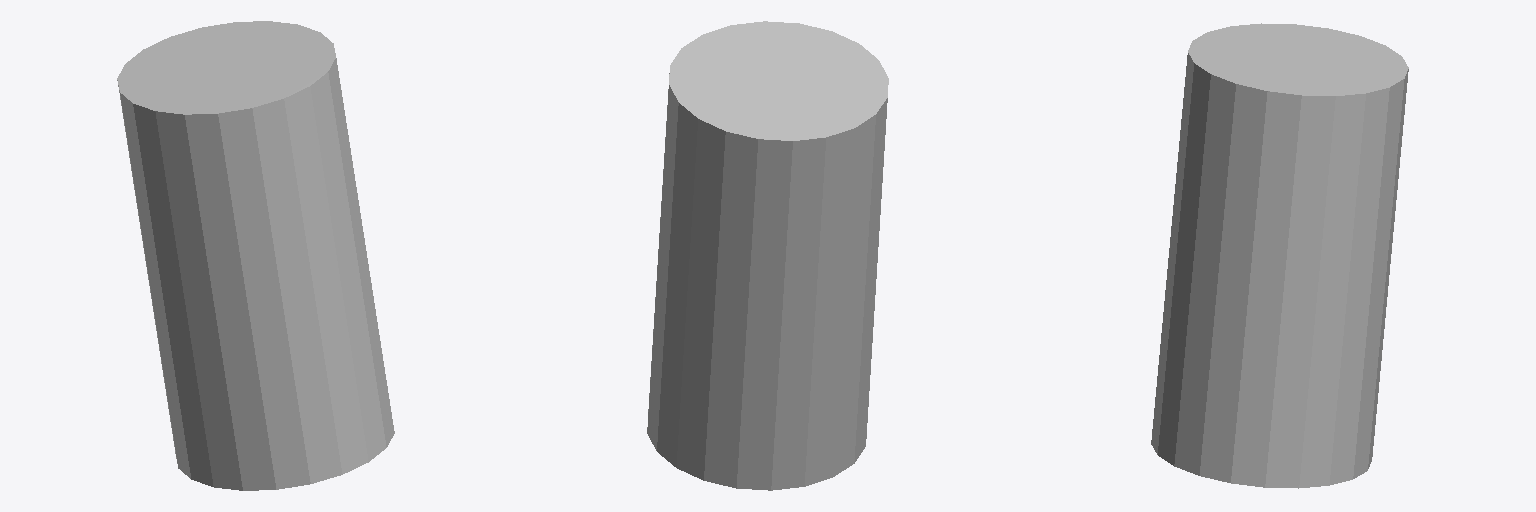
Rendered from 2distph_skin.obj.
3 views of the same model, side by side, from view 1: azimuth 30°, elevation 25°; view 2: azimuth 150°, elevation 25°; view 3: azimuth 270°, elevation 25° (orthographic).
Bounding box in the file's own units: 0.0093 × 0.0155 × 0.009.